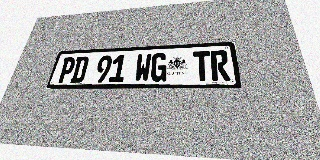1: (108, 55, 127, 82)
9: (94, 55, 113, 82)
D: (70, 56, 90, 83)
G: (150, 53, 167, 82)
P: (56, 57, 77, 83)
R: (210, 50, 231, 81)
T: (193, 51, 211, 81)
W: (134, 53, 152, 82)
